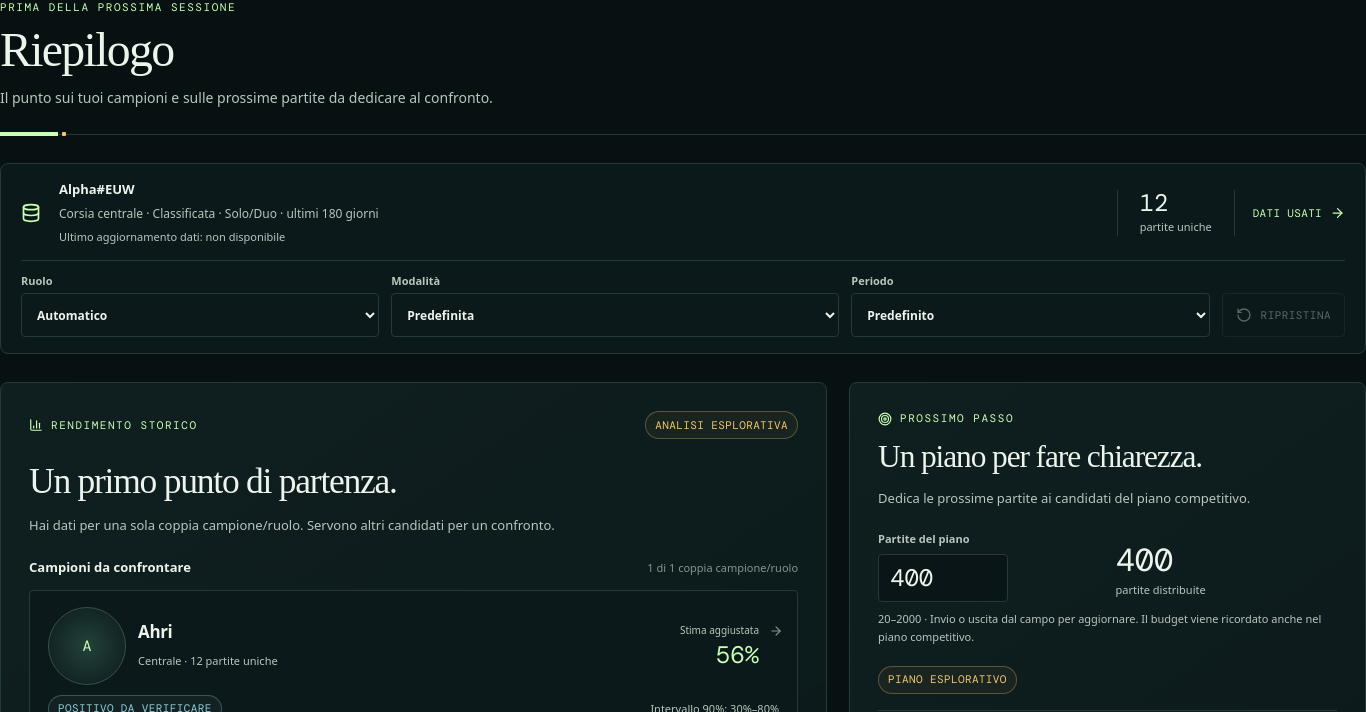
Scenario: Filtri condivisi del Riepilogo › mantiene il budget confermato e riprova lo stesso piano dopo un errore
Step 1. Replace the text in the number field labelled "Partite del piano" with "150" → (943,578), box left=878, top=554, right=1008, bottom=602
Then press Enter
(page scrolled)
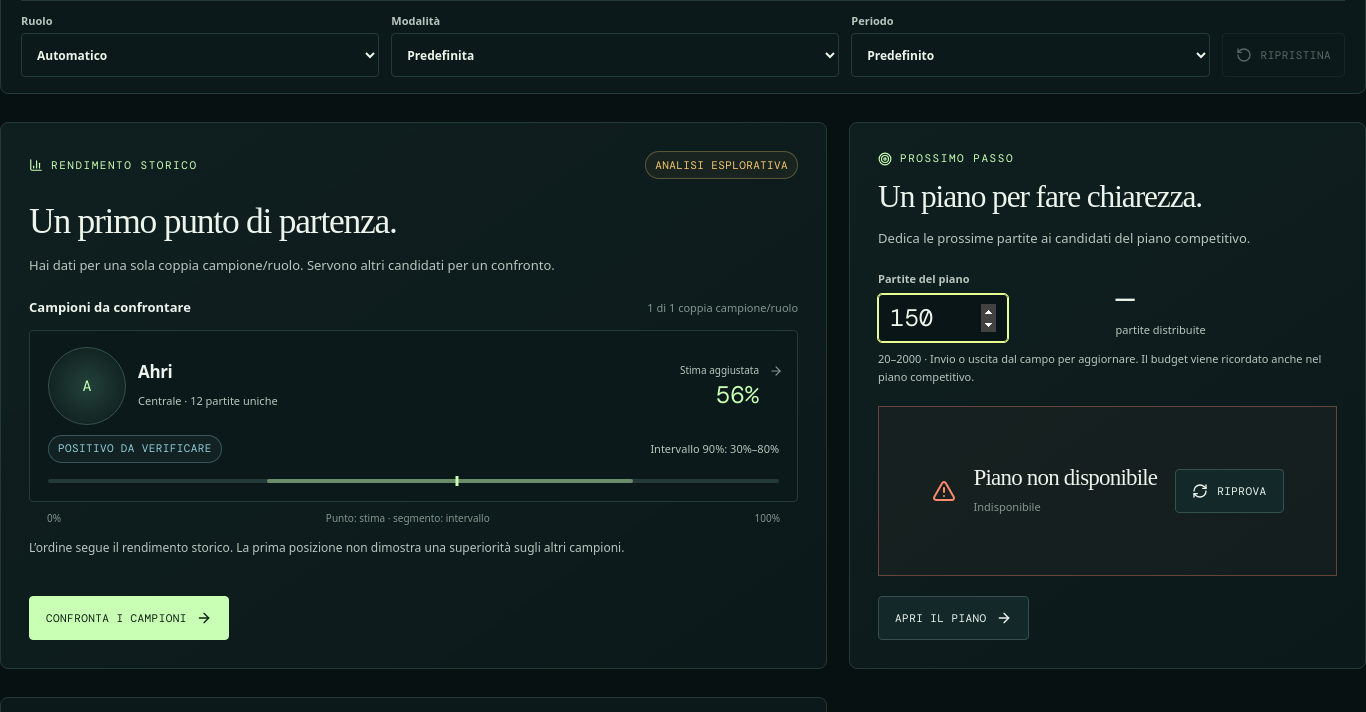
Expected: the list named "Campioni da confrontare" is shown, left=29, top=330, right=798, bottom=502
Expected: the heading "Piano non disponibile" is shown, left=974, top=465, right=1157, bottom=492
Step 2. Click the button "Riprova" → (1229,490), box left=1175, top=468, right=1284, bottom=512
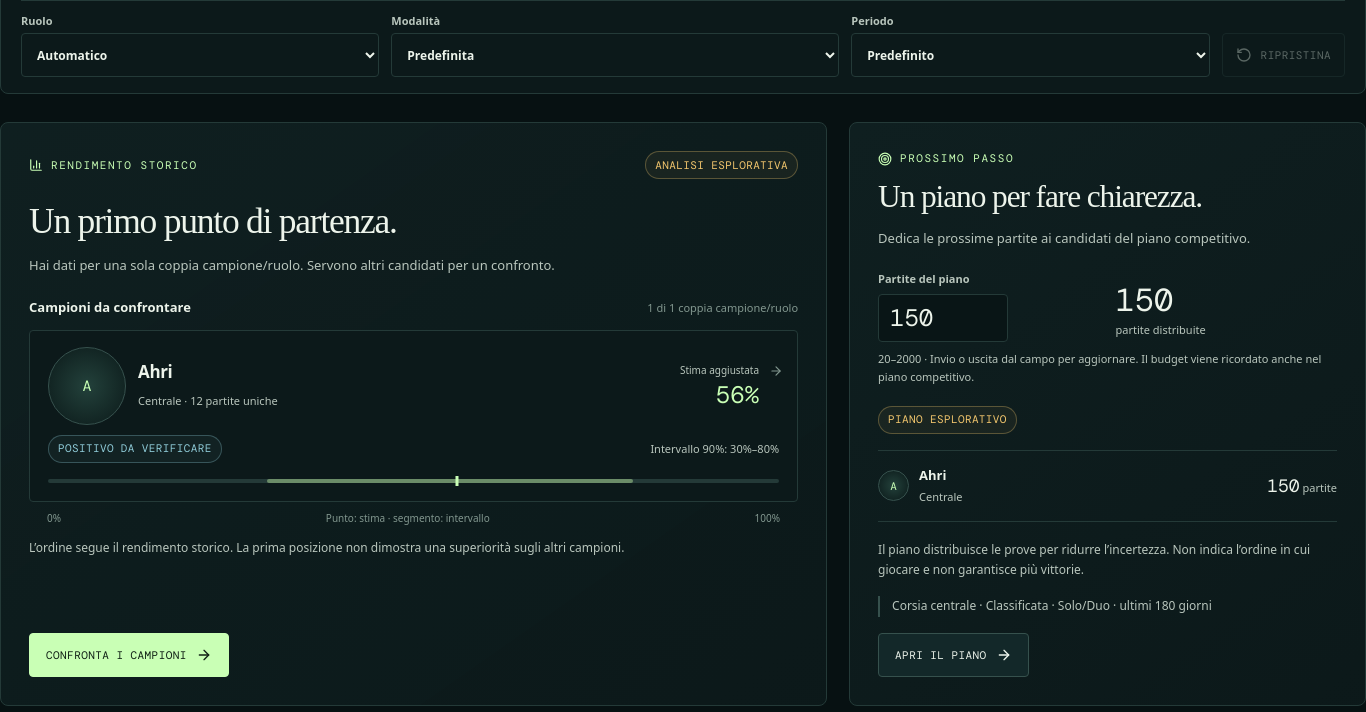
Expected: the 2nd text "150" is shown, left=1267, top=474, right=1300, bottom=498
